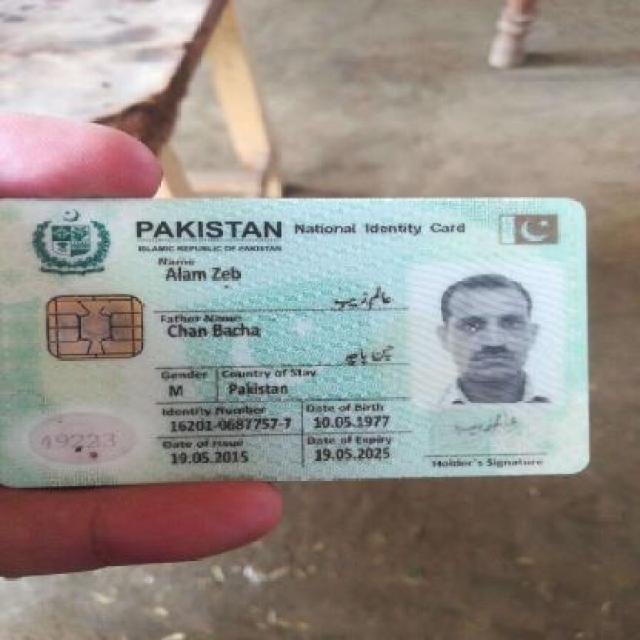Front: (4, 192, 596, 483)
